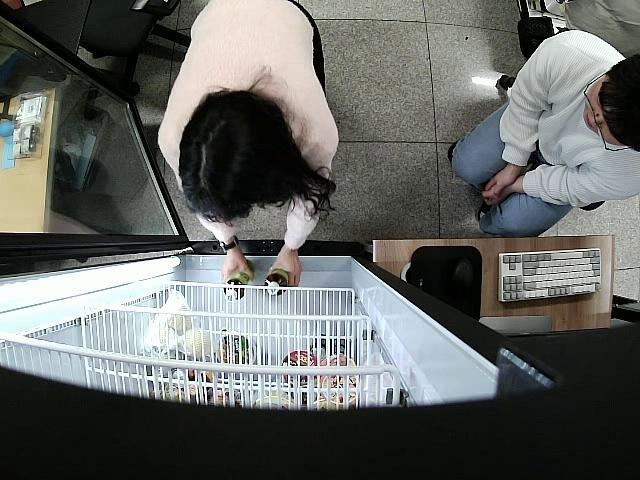19_17cha: (223, 262, 256, 302), (262, 268, 288, 299)
